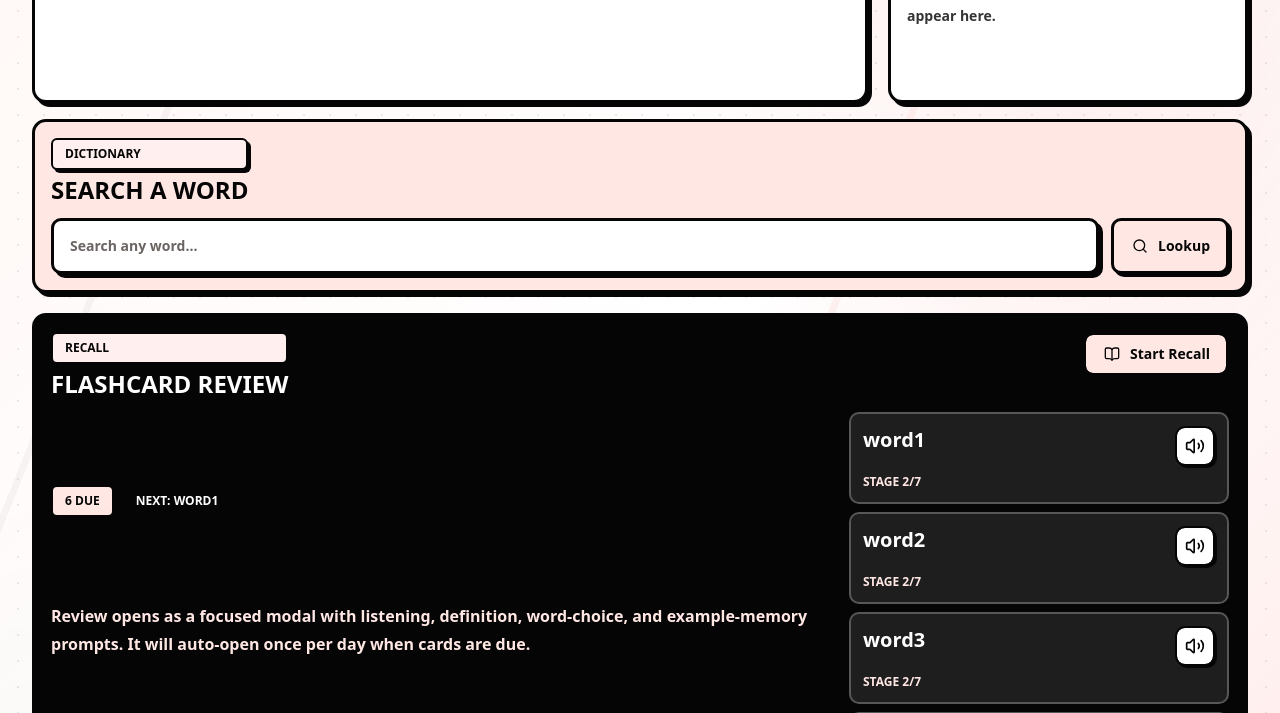
VocabularyDashboard › fetches the next due page when five cards remain
The image size is (1280, 713).
(page scrolled)
Step 1. Click the button "Start Recall" → (1156, 354), box [1083, 332, 1229, 376]
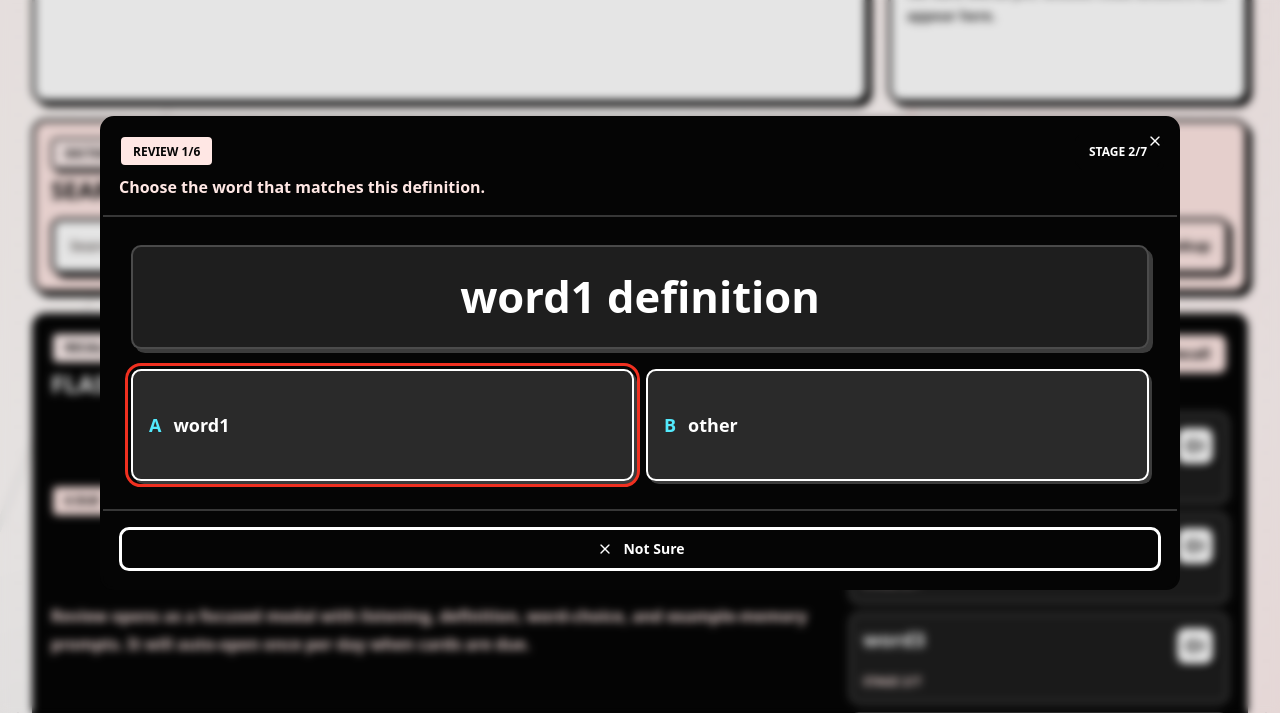
Step 2. Click the button "A word1" → (201, 425), box [131, 369, 634, 481]
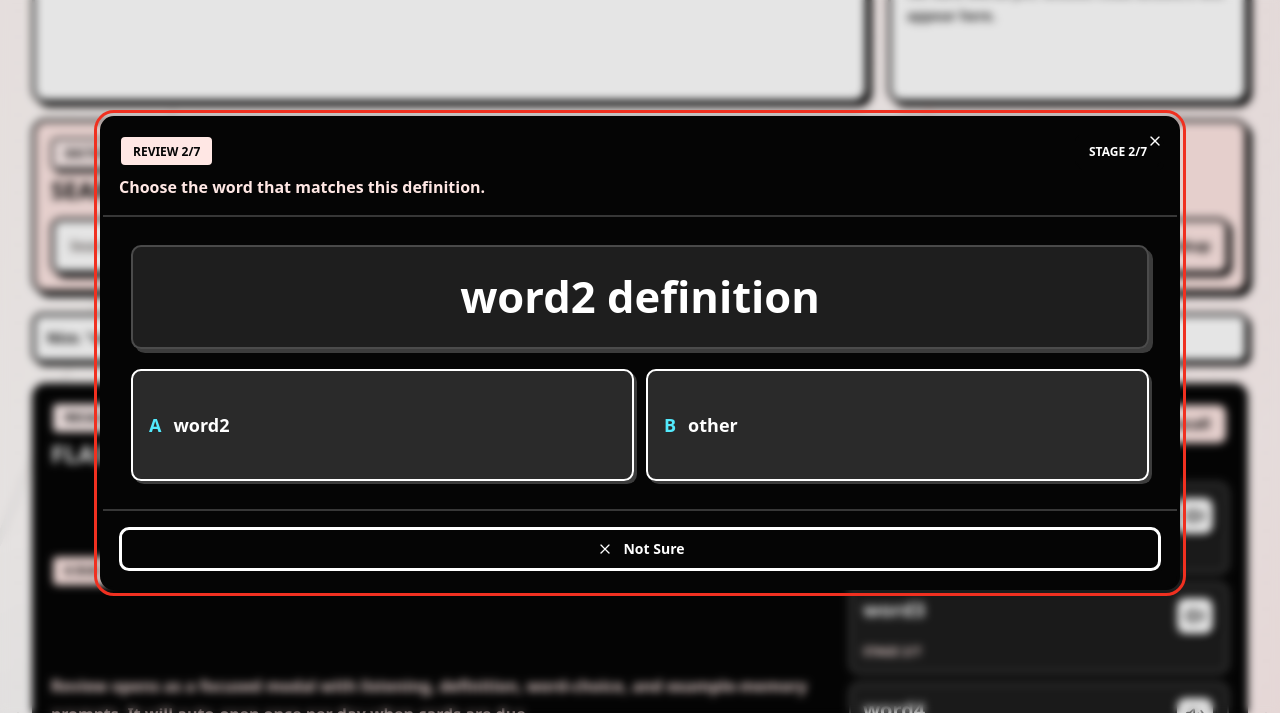
Now the text "Review 2/7" is shown, box [119, 135, 214, 167]
